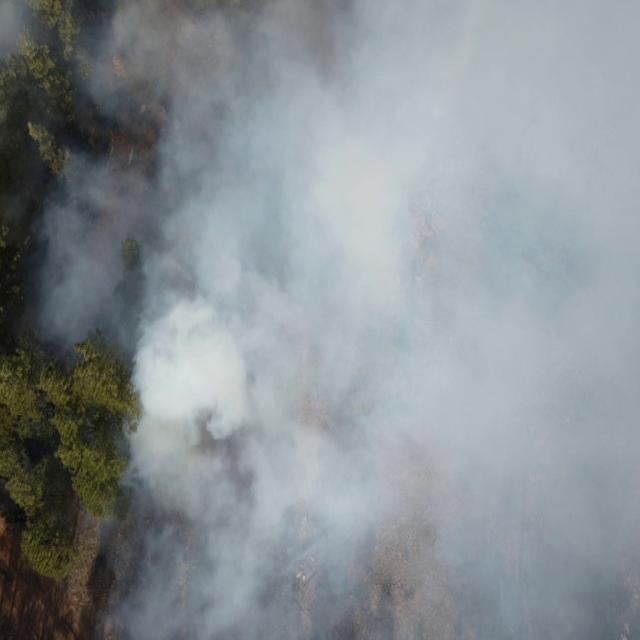smoke: (127, 1, 640, 640), (34, 150, 129, 359), (85, 0, 125, 129), (0, 0, 37, 55)
